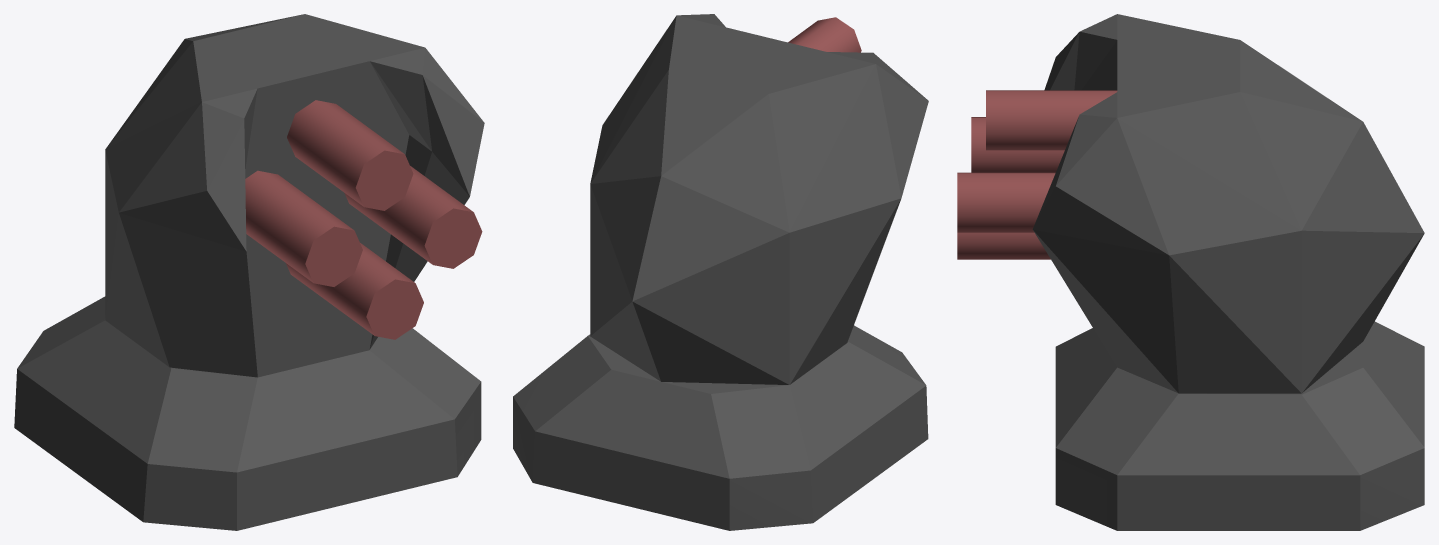
Rendered from tourelle1_1.FBX.
3 renders of one model, left to right at view 1: azimuth 30°, elevation 25°; view 2: azimuth 150°, elevation 25°; view 3: azimuth 270°, elevation 25°, orthographic. The views are drawn at different scales.
Visible parts, largest first — view 1: body, base, waypons; view 2: body, base, waypons; view 3: body, base, waypons.
Part boxes in pixels (x1,y1,x2,y2): body: (105, 14, 484, 377); base: (14, 296, 481, 530); waypons: (245, 100, 482, 339); body: (590, 14, 928, 384); base: (513, 325, 928, 530); waypons: (788, 17, 861, 52); body: (1032, 14, 1424, 393); base: (1055, 321, 1424, 530); waypons: (957, 90, 1117, 259).
Size of the model in its own units: 602 by 691 by 757.
